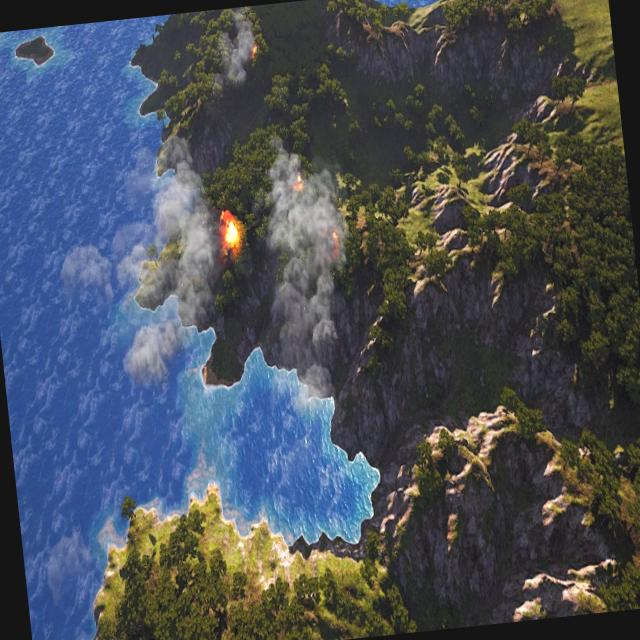fire: (219, 207, 244, 256), (326, 224, 342, 260), (288, 169, 307, 197), (248, 41, 260, 60)
smoke: (48, 133, 227, 397), (256, 144, 371, 410), (216, 8, 262, 92)
